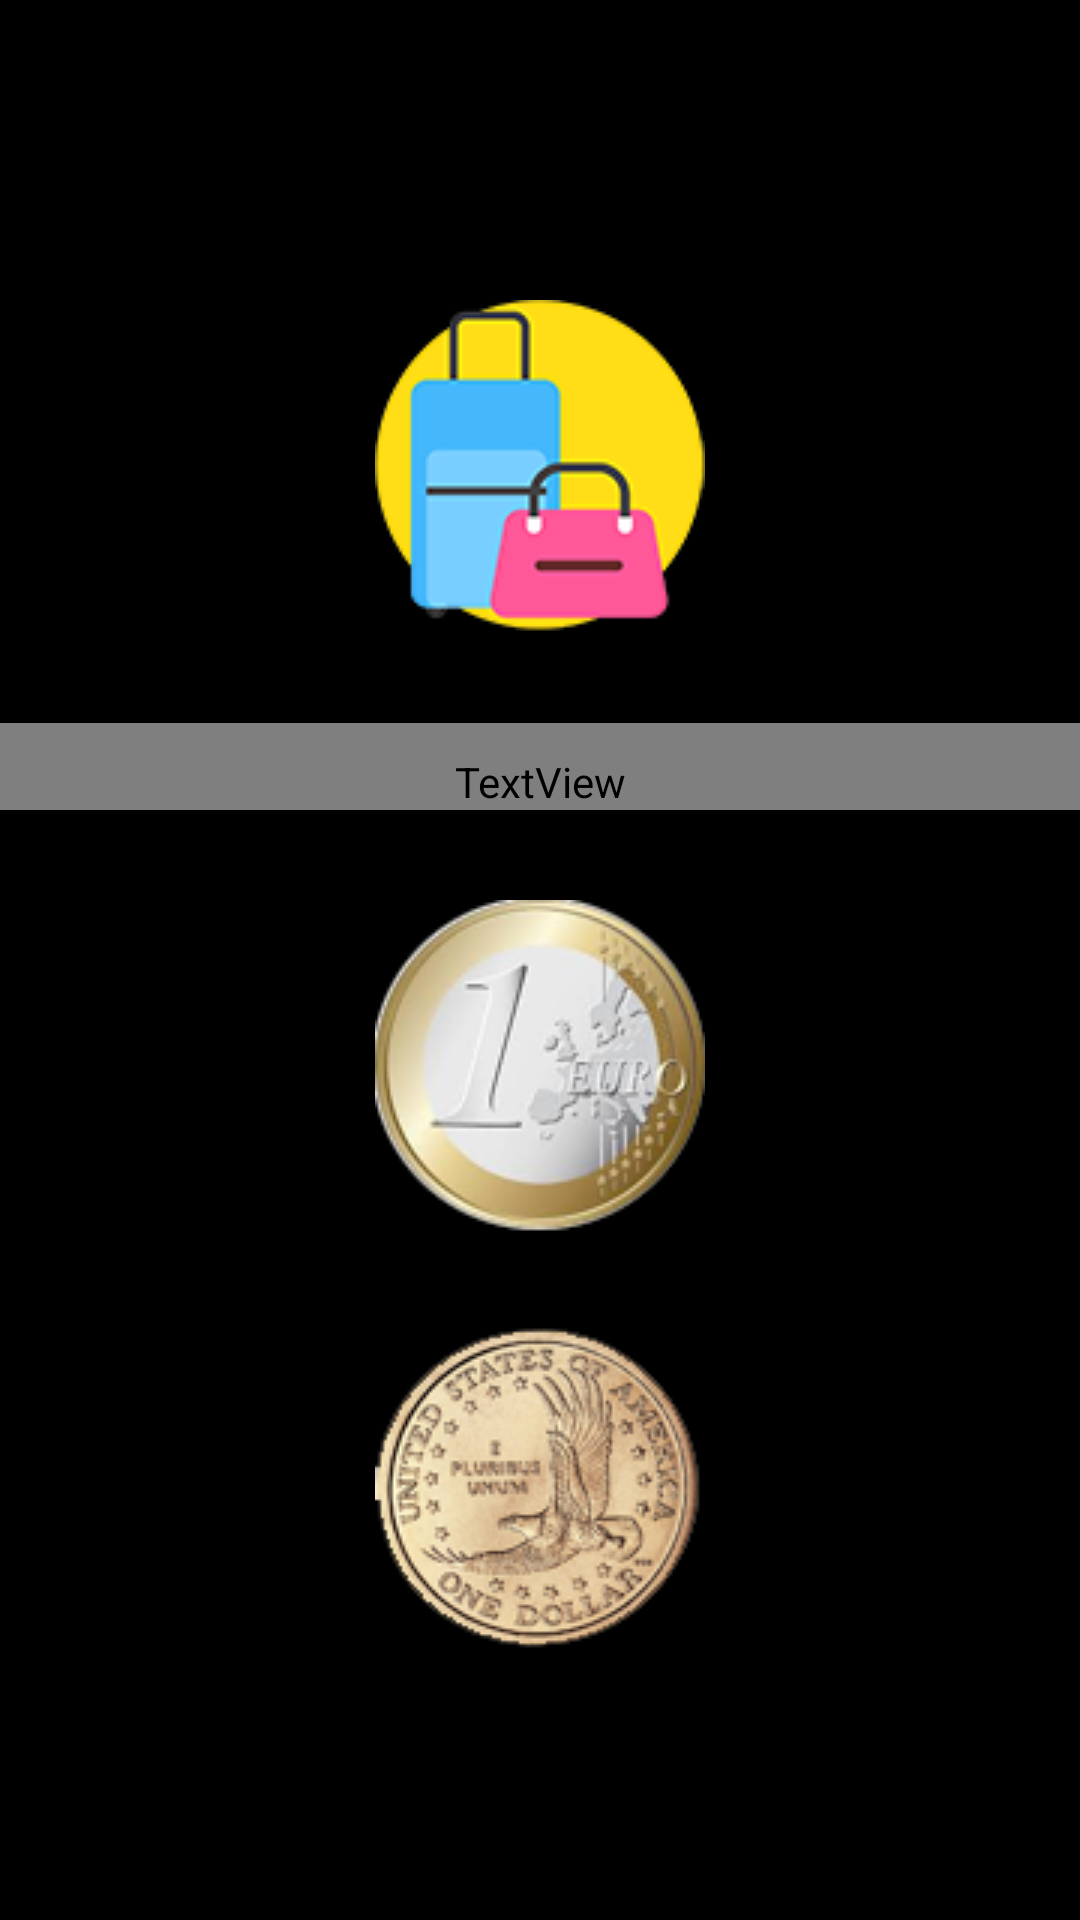

Locate icon controls on the screen. Image size 1080 × 1920, boxes as (x1, y1, x2, y2).
euro coin: (375, 900, 705, 1231)
